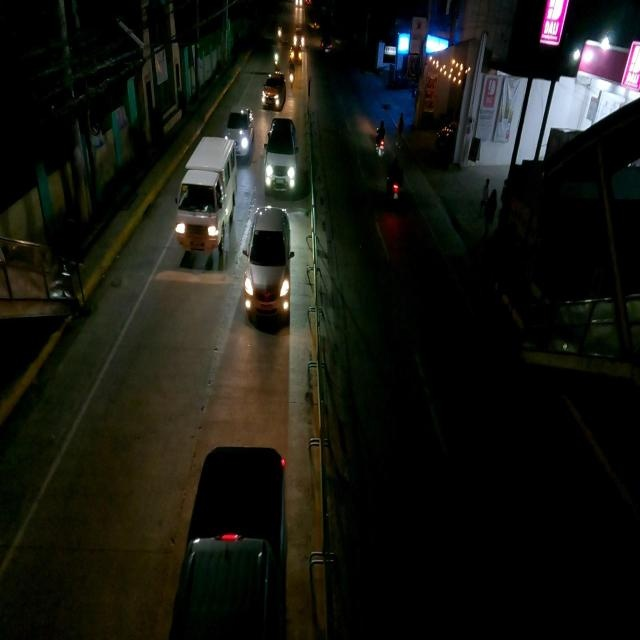Motorcycle: (374, 119, 388, 162), (289, 59, 295, 89)
Van: (173, 138, 238, 258)
